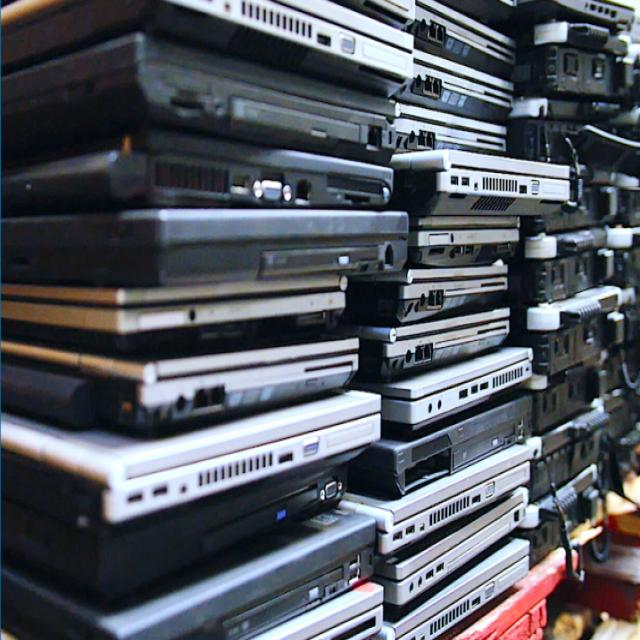hazard: (8, 6, 640, 640)
